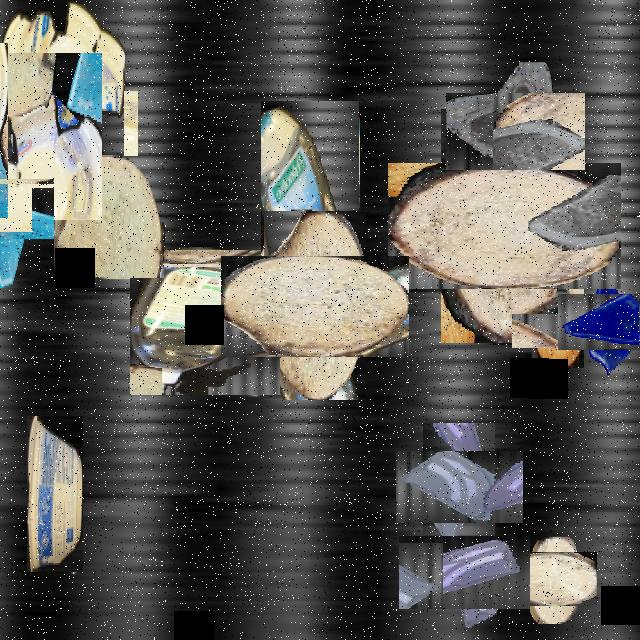glass: (0, 71, 120, 202), (462, 77, 570, 186), (414, 521, 516, 624), (409, 437, 509, 537), (0, 160, 79, 266), (570, 281, 640, 362)
plastic: (261, 102, 359, 340), (0, 2, 124, 180), (131, 248, 279, 396), (27, 416, 83, 572)
wood: (414, 136, 594, 316), (242, 233, 388, 379), (54, 156, 164, 278), (522, 286, 594, 358), (520, 545, 590, 614), (0, 45, 8, 218)
